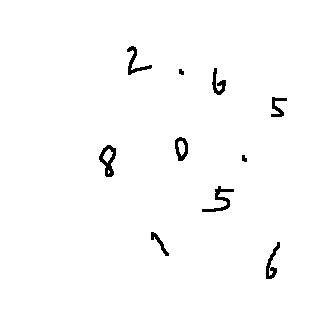.: (237, 151, 255, 169), (175, 66, 189, 84)
0: (167, 135, 201, 174)
1: (149, 227, 175, 264)
2: (119, 40, 162, 80)
5: (197, 185, 239, 224), (263, 89, 293, 124)
6: (202, 58, 233, 109), (259, 232, 286, 287)
8: (91, 143, 122, 183)
